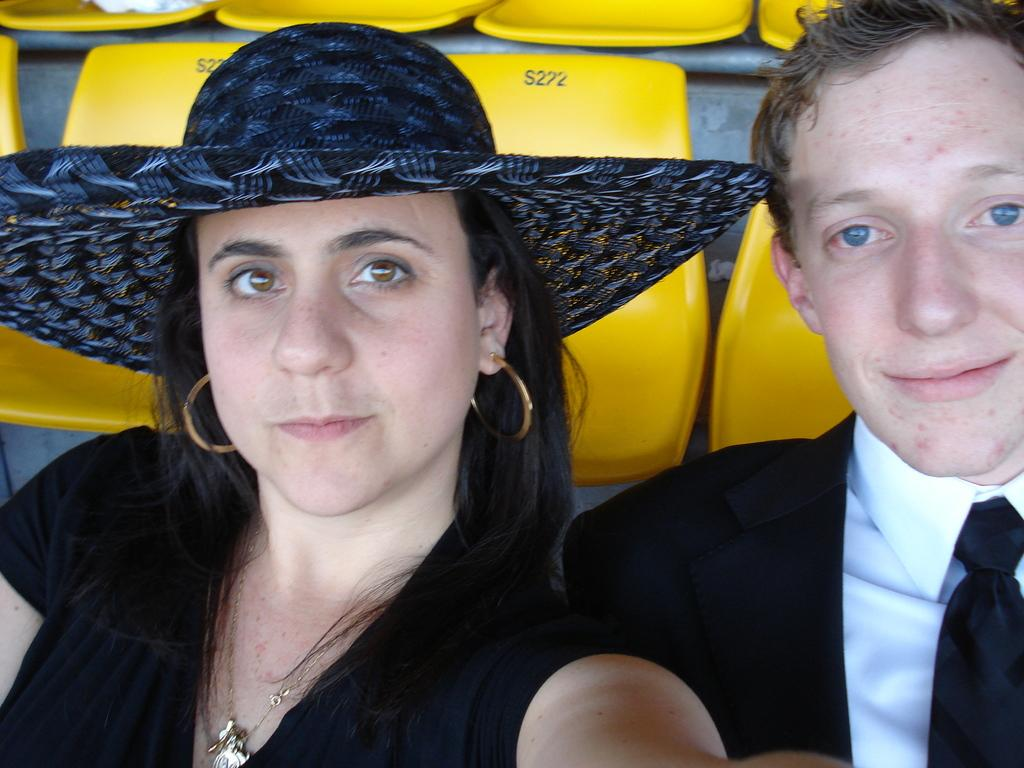Hat: (0, 20, 773, 384)
